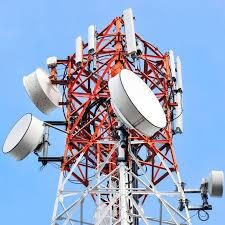Microwave Antenna: (105, 67, 172, 148), (0, 111, 44, 168), (23, 65, 63, 118), (206, 166, 225, 204)
antenna: (120, 5, 138, 55), (174, 89, 188, 134), (175, 49, 187, 91), (86, 24, 97, 62), (72, 34, 84, 67), (167, 48, 178, 79)
